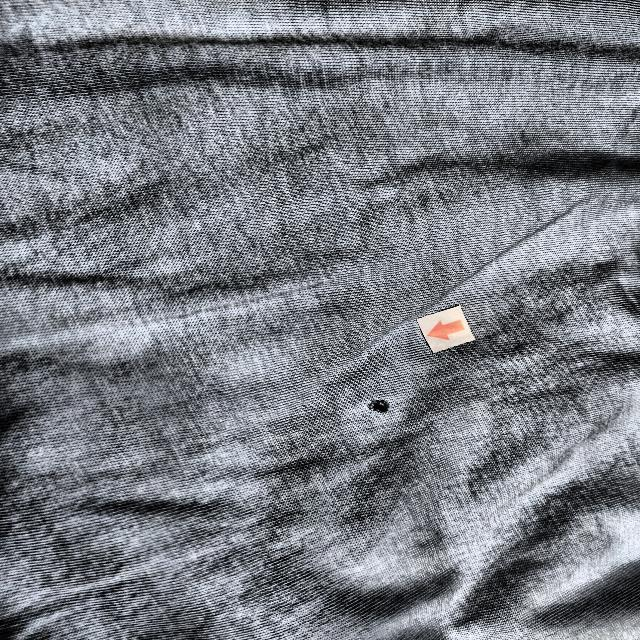cut: (362, 395, 401, 418)
